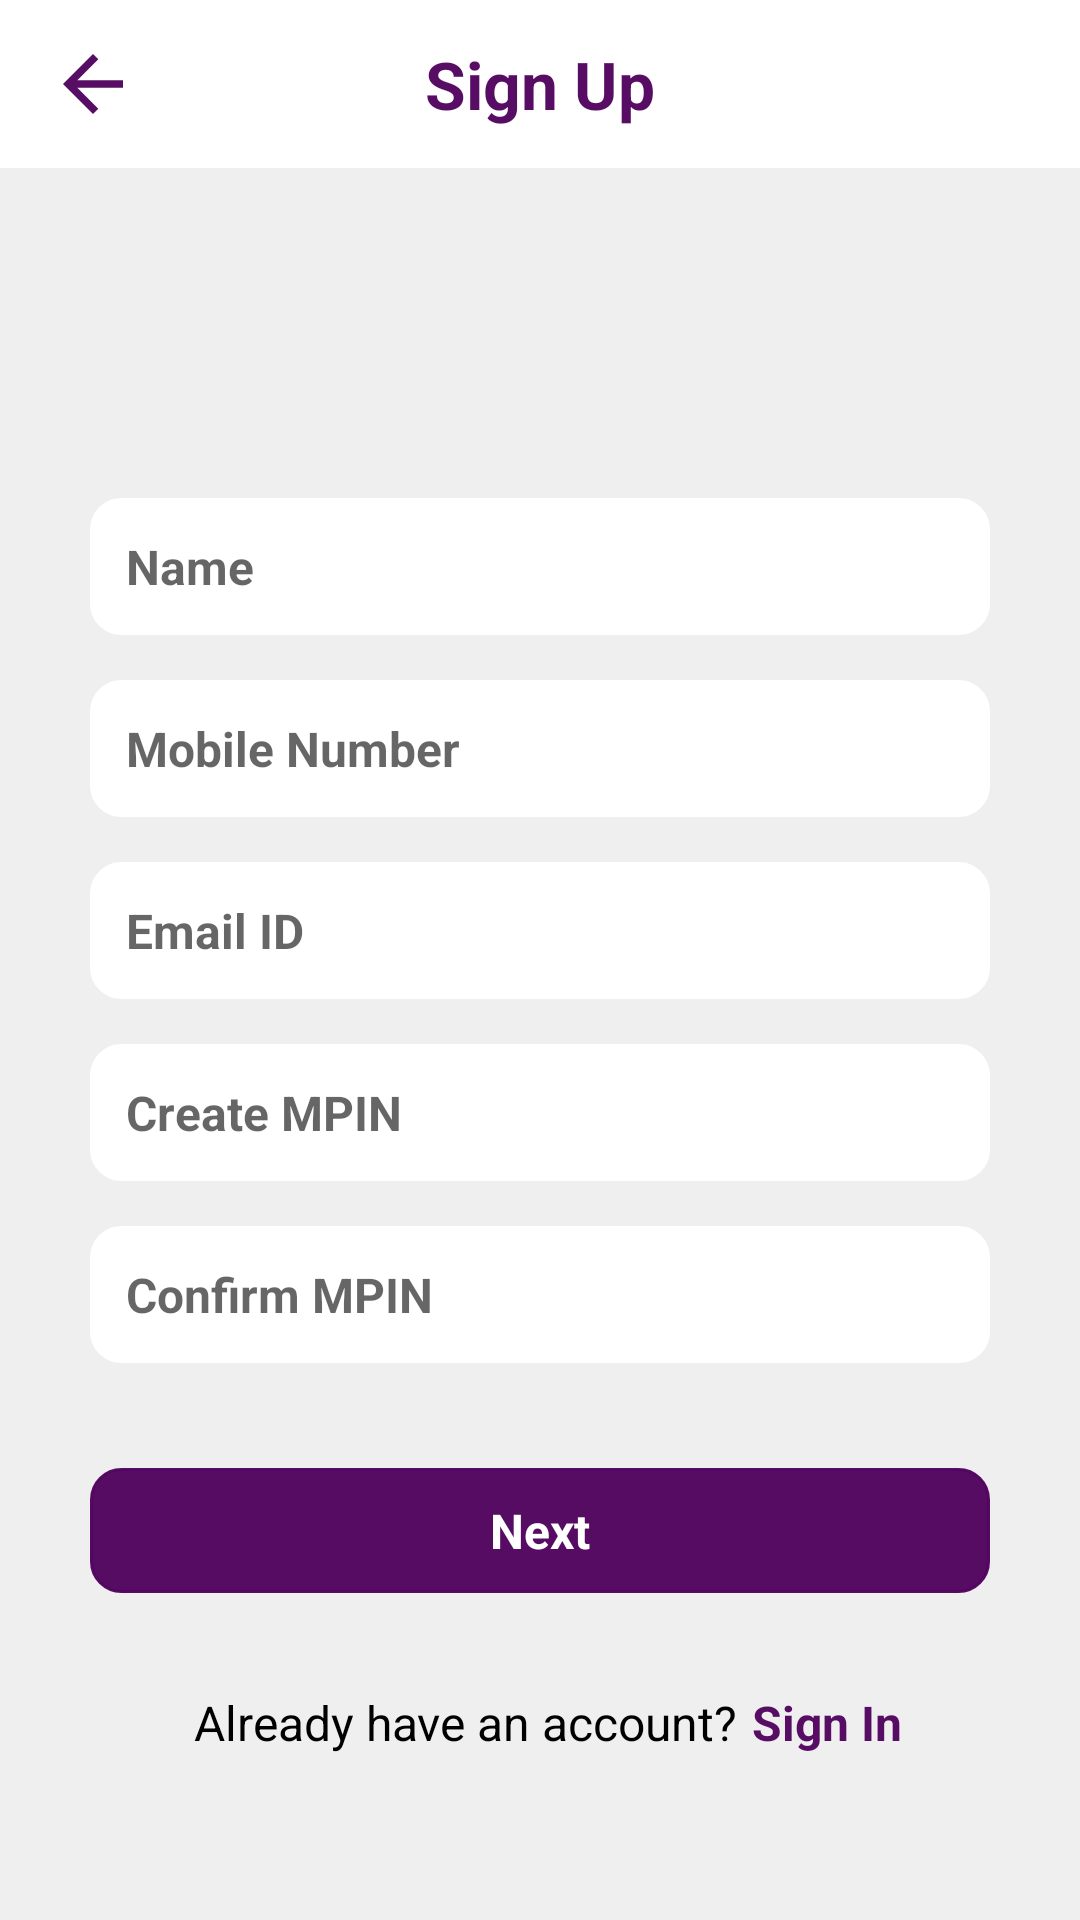

Screen size 1080 x 1920. Icon name, then its center in pixels as (x=x, y=y):
back: (x=93, y=84)
